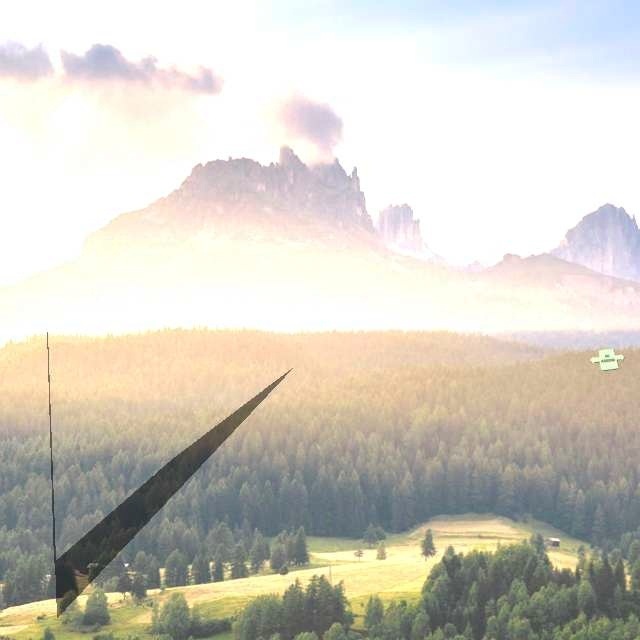GO_AROUND: (589, 348, 625, 371)
